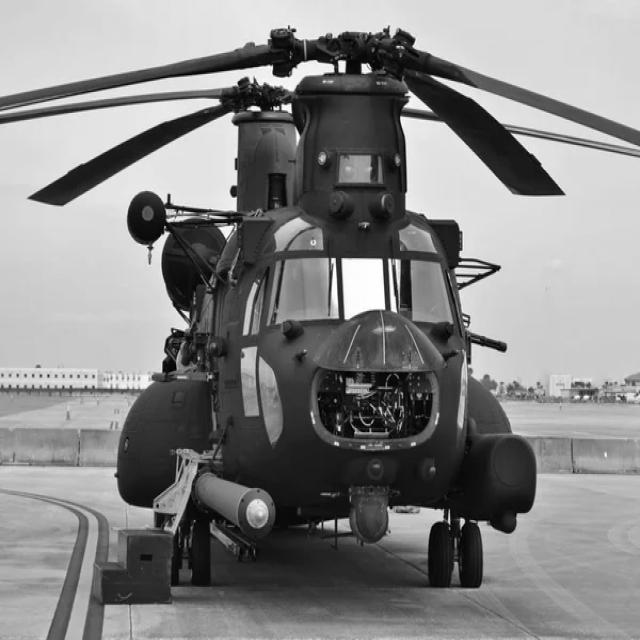Helicopter: (0, 29, 582, 588)
